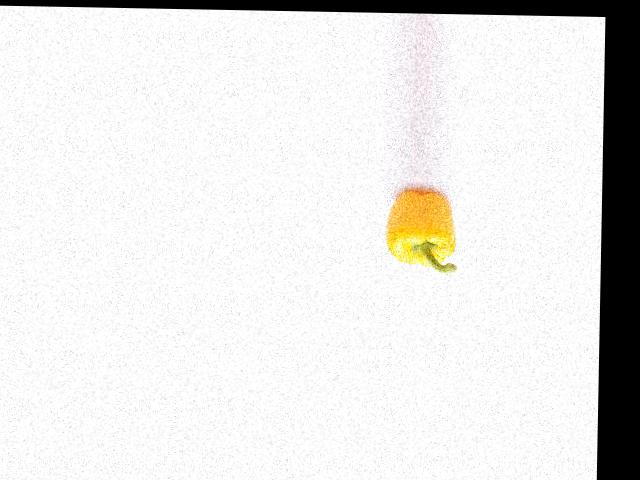bell_pepper: (378, 188, 460, 270)
